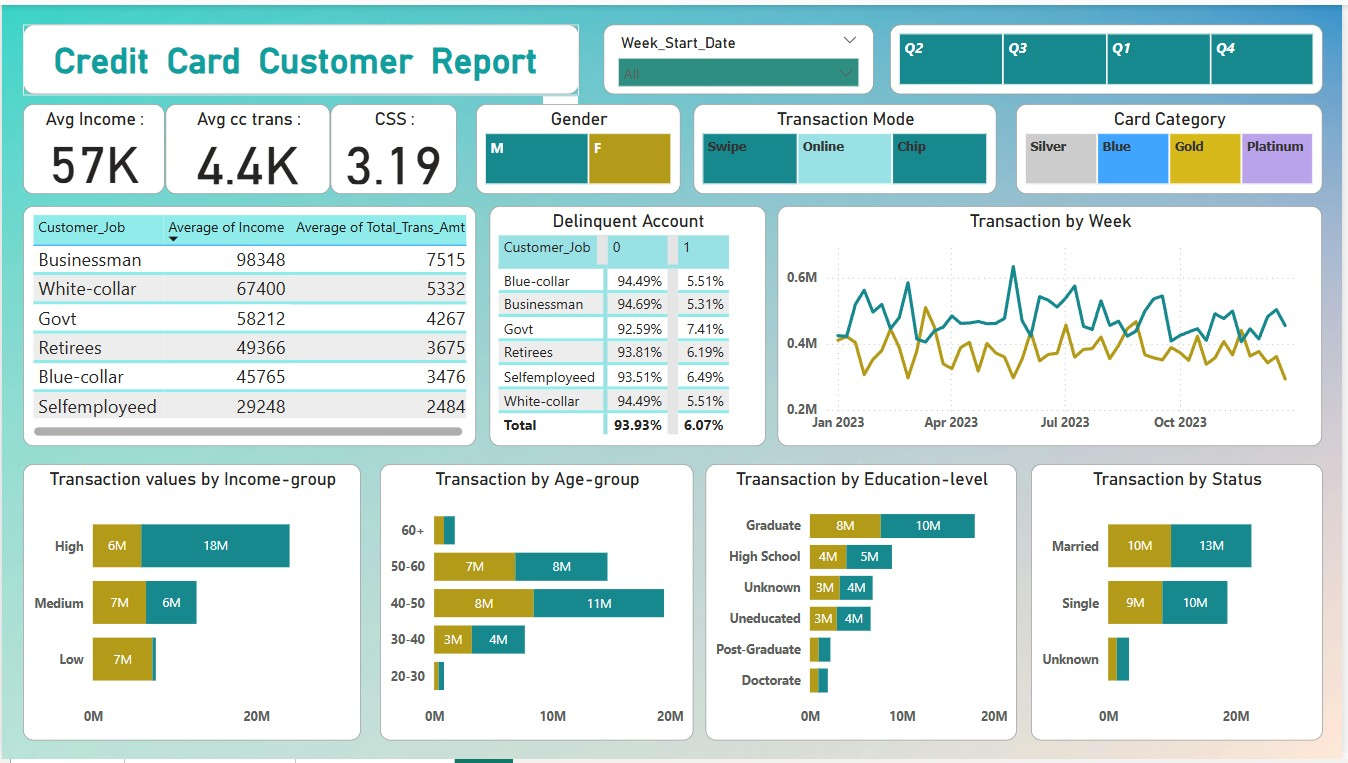

What the dashboard file says about the page in this screenshot:
{"tool":"powerbi","page":{"name":"cc customer","canvas":[1280,720],"ordinal":2},"visuals":[{"type":"textbox","box":[20.7,19.1,531.3,66.8],"z":0},{"type":"barChart","title":"Transaction values by Income-group","fields":{"Y":["Sum(credit_cards.Total_Trans_Amt)"],"Category":["customers.IncomeGroup"],"Series":["customers.Gender"]},"box":[20.7,439,322.9,264],"z":1000},{"type":"tableEx","fields":{"Values":["customers.Customer_Job","Avg(customers.Income)","Avg(credit_cards.Total_Trans_Amt)"]},"box":[20.7,192.5,432.6,229],"z":2000},{"type":"card","title":"CSS :","fields":{"Values":["Avg(customers.Cust_Satisfaction_Score)"]},"box":[313.4,93.8,120.9,85.9],"z":3000},{"type":"card","title":"Avg Income :","fields":{"Values":["Avg(customers.Income)"]},"box":[20.7,93.8,135.2,85.9],"z":4000},{"type":"treemap","fields":{"Group":["credit_cards.Qtr"],"Values":["CountNonNull(credit_cards.Client_Num)"]},"box":[847.8,19.1,413.6,66.8],"z":5000},{"type":"slicer","fields":{"Values":["credit_cards.Week_Start_Date"]},"box":[574.2,19.1,257.7,66.8],"z":6000},{"type":"card","title":"Avg cc trans :","fields":{"Values":["Avg(credit_cards.Total_Trans_Amt)"]},"box":[155.9,93.8,157.5,85.9],"z":7000},{"type":"lineChart","title":"Transaction by Week","fields":{"Y":["Sum(credit_cards.Total_Trans_Amt)"],"Series":["customers.Gender"],"Category":["credit_cards.Week_Start_Date.Variation.Date Hierarchy.Year","credit_cards.Week_Start_Date.Variation.Date Hierarchy.Month","credit_cards.Week_Start_Date.Variation.Date Hierarchy.Day"]},"box":[741.2,192.5,520.1,229],"z":8000},{"type":"treemap","title":"Gender","fields":{"Group":["customers.Gender"],"Values":["Sum(credit_cards.Total_Trans_Amt)"]},"box":[453.3,93.8,195.6,85.9],"z":9000},{"type":"barChart","title":"Transaction by Age-group","fields":{"Y":["Sum(credit_cards.Total_Trans_Amt)"],"Category":["customers.AgeGroup"],"Series":["customers.Gender"]},"box":[361.1,439,299,264],"z":10000},{"type":"barChart","title":"Transaction by Status","fields":{"Y":["Sum(credit_cards.Total_Trans_Amt)"],"Category":["customers.Marital_Status"],"Series":["customers.Gender"]},"box":[983,439,278.4,264],"z":11000},{"type":"barChart","title":"Traansaction by Education-level","fields":{"Y":["Sum(credit_cards.Total_Trans_Amt)"],"Category":["customers.Education_Level"],"Series":["customers.Gender"]},"box":[671.2,439,297.4,264],"z":12000},{"type":"treemap","title":"Card Category","fields":{"Values":["Avg(credit_cards.Client_Num)"],"Group":["credit_cards.Card_Category"]},"box":[968.7,93.8,292.7,85.9],"z":13000},{"type":"treemap","title":"Transaction Mode","fields":{"Values":["Avg(credit_cards.Client_Num)"],"Group":["credit_cards.Use_Chip"]},"box":[660.1,93.8,289.5,85.9],"z":14000},{"type":"pivotTable","title":"Delinquent Account","fields":{"Rows":["customers.Customer_Job"],"Columns":["credit_cards.Delinquent_Acc"],"Values":["CountNonNull(customers.Client_Num)"]},"box":[466,192.5,264,229],"z":15000}]}

Visuals, with their boxes in screenshot pixels (x1, y1, x2, y2), scaled from the page's 1280x720 canvas onto the 1348x763 screenshot:
textbox: bbox(22, 20, 581, 91)
"Transaction values by Income-group" barChart: bbox(22, 465, 362, 745)
tableEx - customers.Customer_Job x Avg(customers.Income): bbox(22, 204, 477, 447)
"CSS :" card: bbox(330, 99, 457, 190)
"Avg Income :" card: bbox(22, 99, 164, 190)
treemap - credit_cards.Qtr x CountNonNull(credit_cards.Client_Num): bbox(893, 20, 1328, 91)
slicer - credit_cards.Week_Start_Date: bbox(605, 20, 876, 91)
"Avg cc trans :" card: bbox(164, 99, 330, 190)
"Transaction by Week" lineChart: bbox(781, 204, 1328, 447)
"Gender" treemap: bbox(477, 99, 683, 190)
"Transaction by Age-group" barChart: bbox(380, 465, 695, 745)
"Transaction by Status" barChart: bbox(1035, 465, 1328, 745)
"Traansaction by Education-level" barChart: bbox(707, 465, 1020, 745)
"Card Category" treemap: bbox(1020, 99, 1328, 190)
"Transaction Mode" treemap: bbox(695, 99, 1000, 190)
"Delinquent Account" pivotTable: bbox(491, 204, 769, 447)
